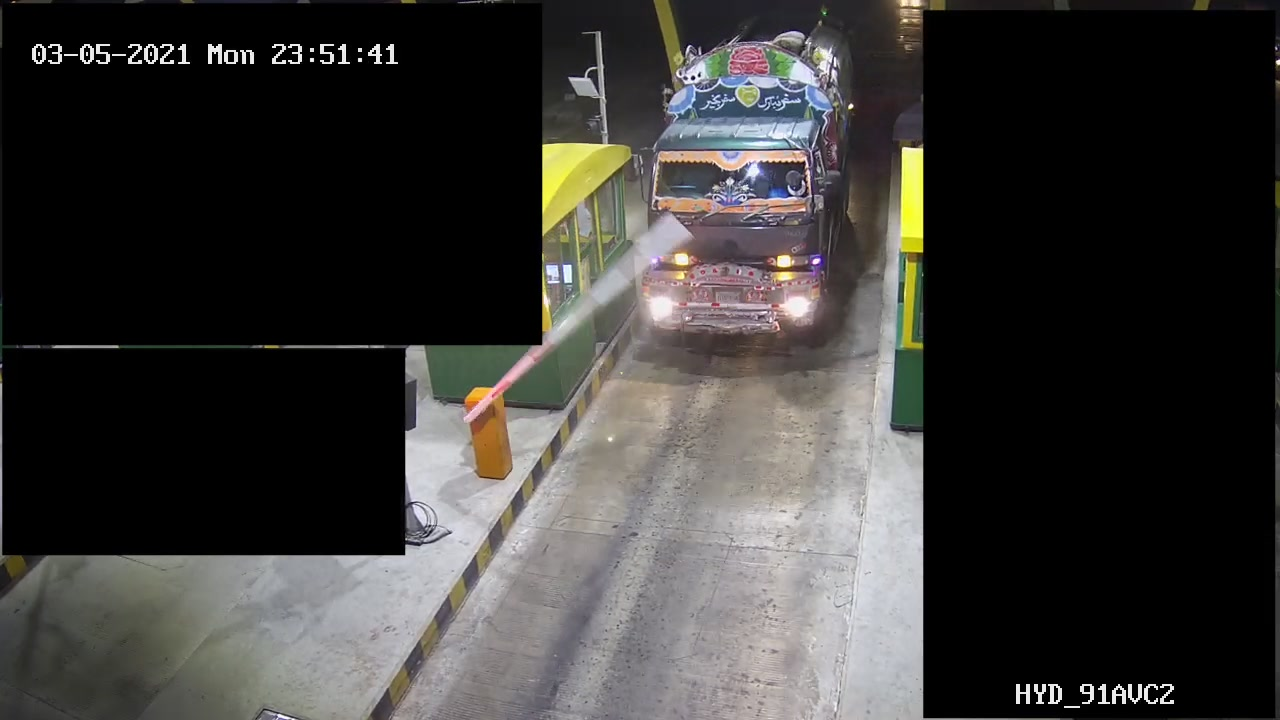F6: (640, 15, 858, 354)
